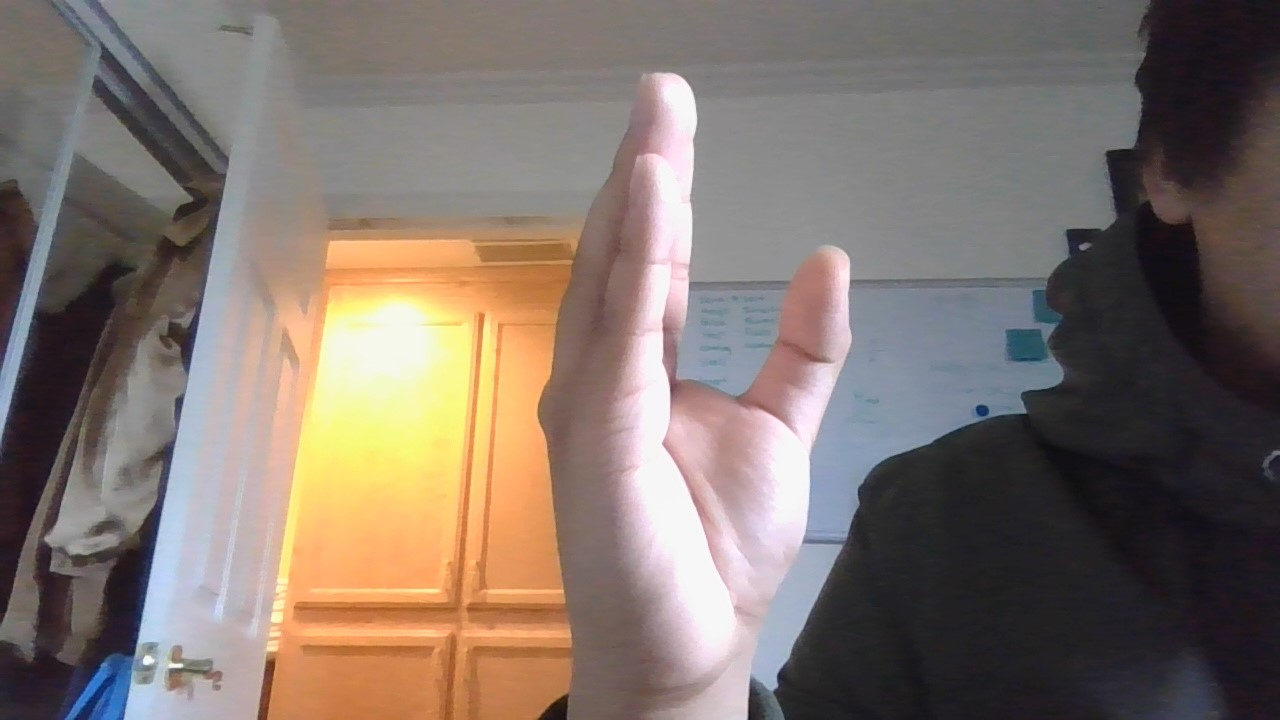j: (456, 52, 873, 704)
